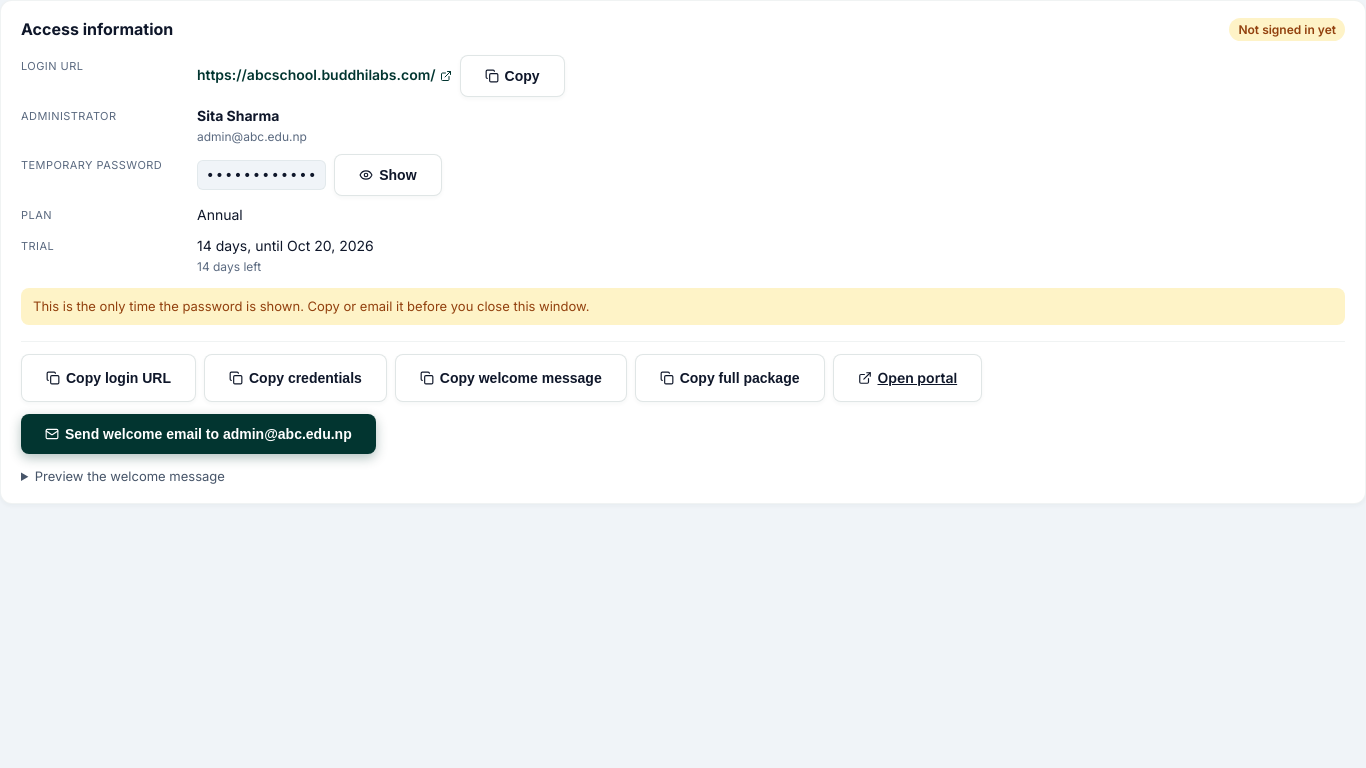
Test: the access card › emails the shown password straight away
This screenshot has width=1366, height=768.
Step 1. Click the button "Send welcome email to admin@abc.edu.np" → [198, 434], box left=21, top=414, right=376, bottom=454
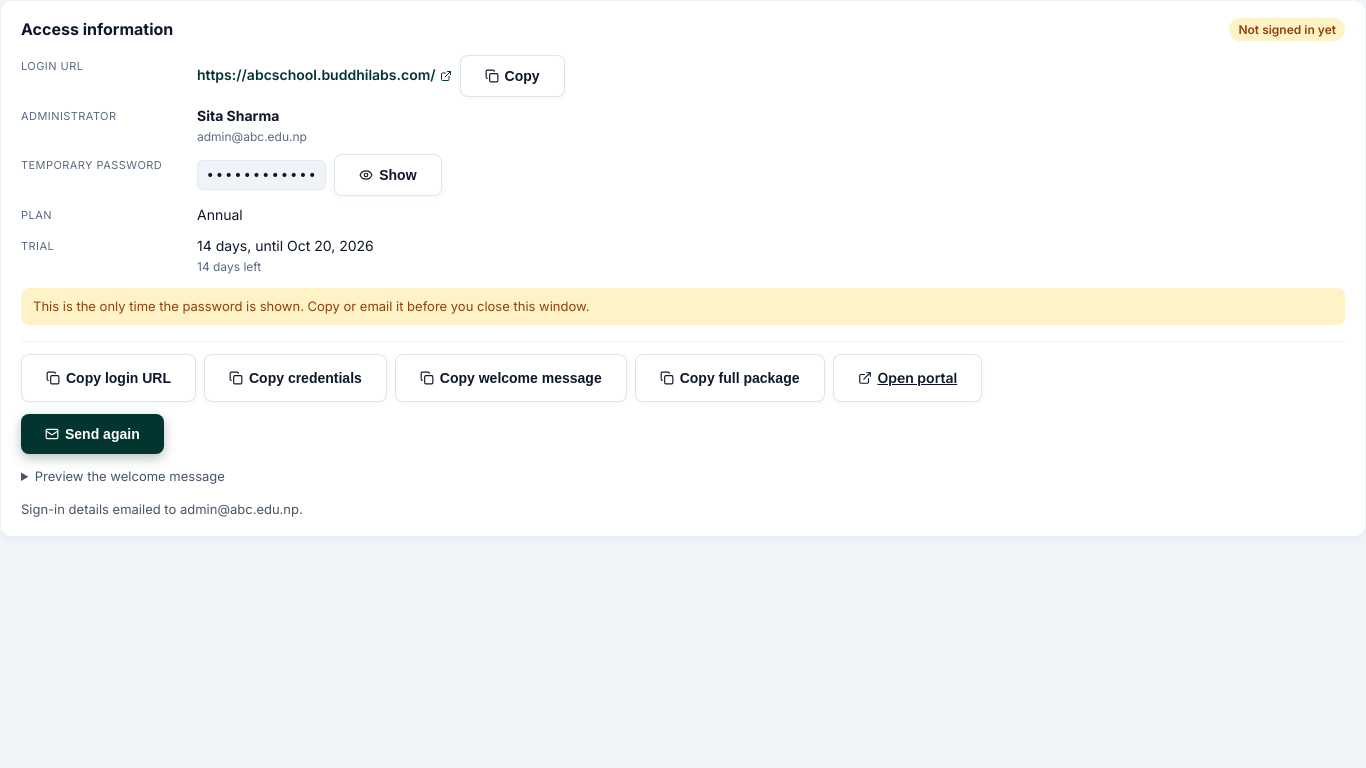
Now the message shows "emailed to admin@abc.edu.np", box left=21, top=501, right=303, bottom=517
